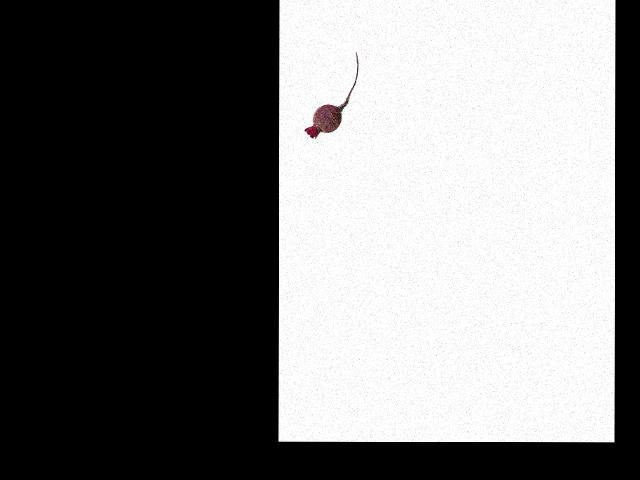beet: (304, 51, 358, 138)
